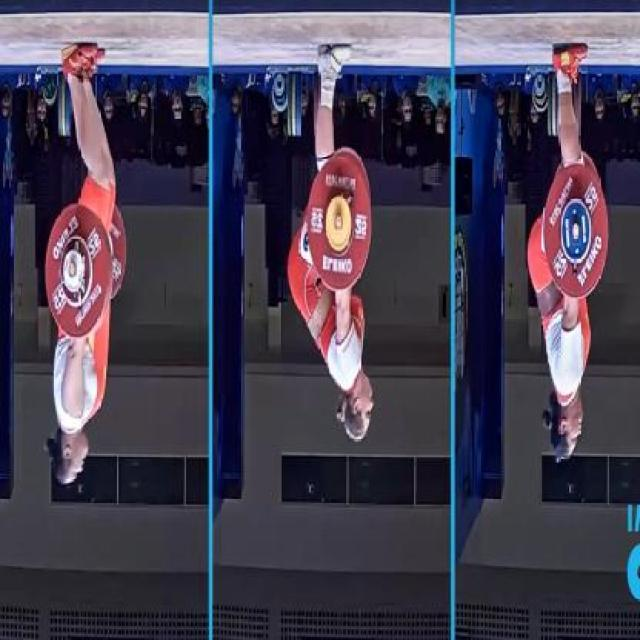Barbell: (332, 210, 345, 235), (570, 215, 581, 243), (67, 258, 78, 282)
